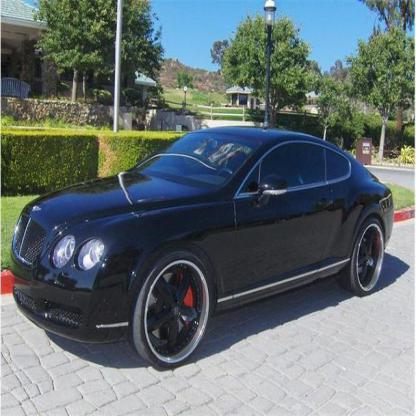Vehicle: (7, 125, 396, 375)
